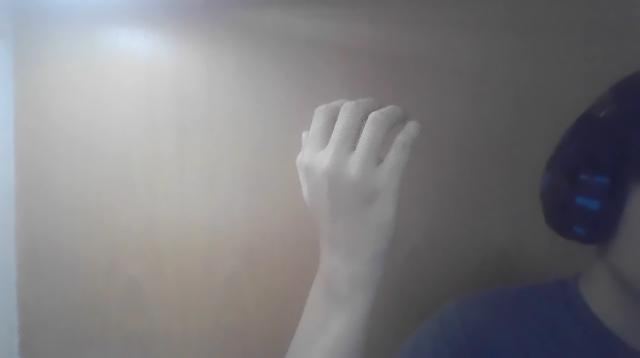backword: (284, 98, 426, 358)
